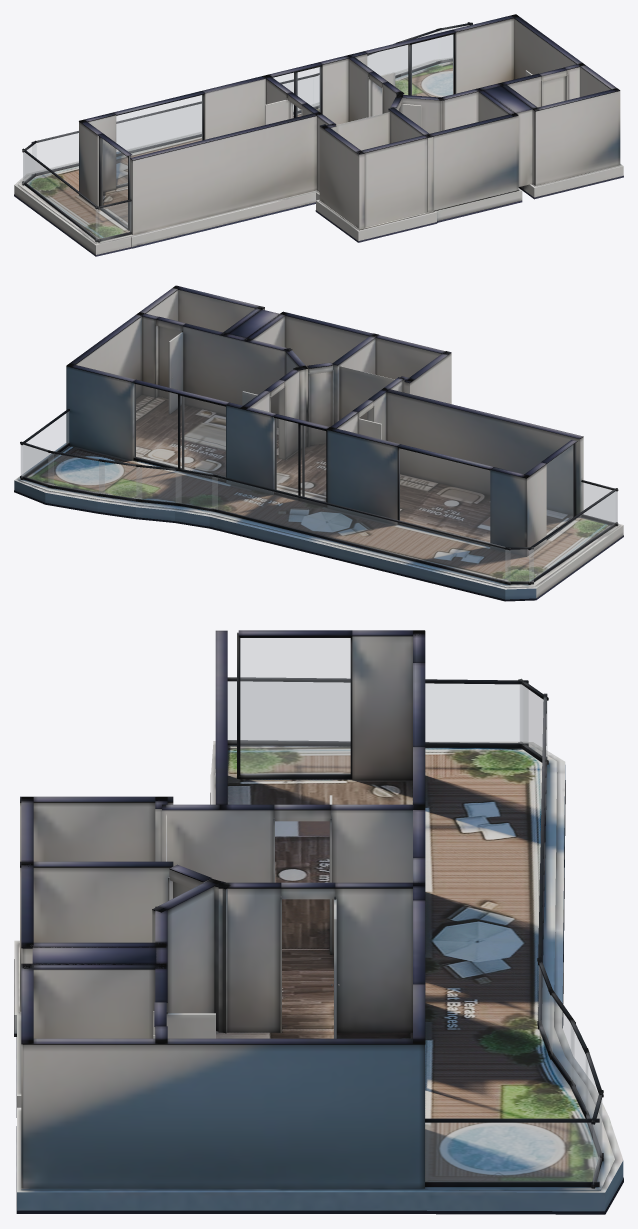
3 views of the same model, one above another, from view 1: azimuth 30°, elevation 25°; view 2: azimuth 150°, elevation 25°; view 3: azimuth 270°, elevation 25° (orthographic). The views are drawn at different scales.
Visible parts, largest first — view 1: plan, railg7_m, glass0_m, glass3_m, railg9_m, glass1_m, glass2_m, railg0_m, railg3_m, railg4_m, railg8_m; view 2: plan, railg7_m, glass0_m, glass3_m, glass2_m, railg9_m, glass1_m, railg3_m, railg5_m, railg1_m, railg4_m, railg6_m (+3 smaller); view 3: plan, glass1_m, railg9_m, railg1_m, railg8_m, railg5_m, railg4_m, railg6_m.
Boxes of the visible parts, left/top/right/bottom form: plan: left=14, top=14, right=623, bottom=256; railg7_m: left=32, top=76, right=317, bottom=173; glass0_m: left=116, top=95, right=202, bottom=185; glass3_m: left=367, top=34, right=453, bottom=96; railg9_m: left=23, top=152, right=99, bottom=239; glass1_m: left=101, top=138, right=127, bottom=226; glass2_m: left=274, top=67, right=320, bottom=117; railg0_m: left=96, top=202, right=130, bottom=239; railg3_m: left=401, top=30, right=441, bottom=73; railg4_m: left=372, top=48, right=396, bottom=74; railg8_m: left=23, top=144, right=35, bottom=182; plan: left=14, top=285, right=623, bottom=601; railg7_m: left=213, top=477, right=510, bottom=582; glass0_m: left=399, top=448, right=489, bottom=542; glass3_m: left=134, top=384, right=225, bottom=476; glass2_m: left=275, top=418, right=325, bottom=501; railg9_m: left=529, top=491, right=616, bottom=582; glass1_m: left=547, top=445, right=573, bottom=534; railg3_m: left=48, top=453, right=104, bottom=494; railg5_m: left=136, top=467, right=181, bottom=503; railg1_m: left=21, top=412, right=68, bottom=477; railg4_m: left=99, top=461, right=141, bottom=499; railg6_m: left=176, top=471, right=217, bottom=509; plan: left=14, top=630, right=623, bottom=1214; glass1_m: left=240, top=638, right=350, bottom=774; railg9_m: left=228, top=681, right=527, bottom=743; railg1_m: left=425, top=1123, right=599, bottom=1181; railg8_m: left=520, top=685, right=547, bottom=763; railg5_m: left=550, top=995, right=573, bottom=1083; railg4_m: left=571, top=1025, right=587, bottom=1114; railg6_m: left=539, top=966, right=552, bottom=1054.
Bounding box in the file's own units: 15.13 × 2.62 × 8.63.
2 materials, 1 textured.
